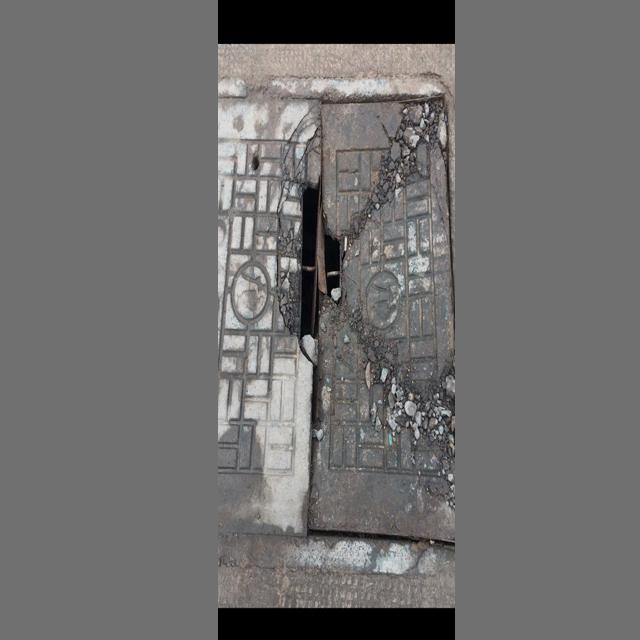broke: (220, 72, 454, 585)
